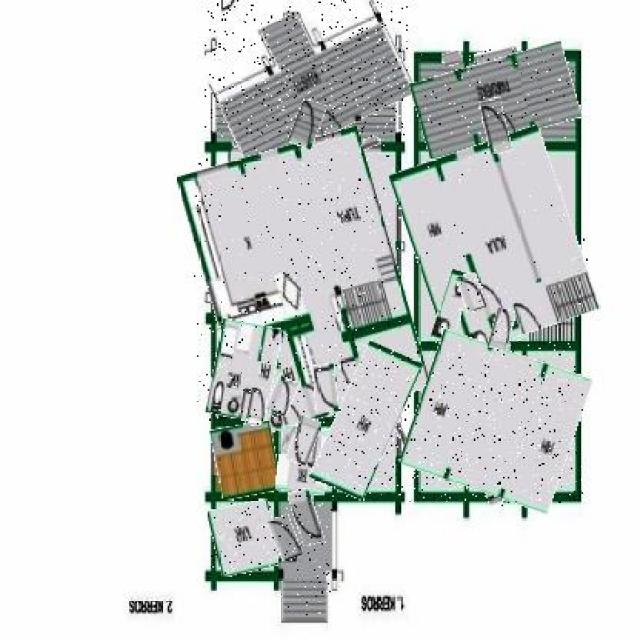door: (290, 489, 322, 545), (482, 97, 509, 154), (292, 101, 323, 148), (291, 417, 318, 466), (272, 515, 300, 560), (314, 365, 338, 412), (269, 378, 297, 416), (458, 274, 484, 312), (491, 309, 512, 349), (246, 389, 266, 426)
window: (388, 395, 409, 460), (476, 48, 518, 66), (232, 138, 262, 154), (349, 137, 378, 152), (443, 52, 462, 65), (532, 51, 551, 63), (488, 491, 503, 506)
zone: (194, 137, 415, 426), (403, 135, 588, 348), (204, 0, 407, 152), (408, 340, 583, 503), (414, 49, 577, 149), (324, 343, 410, 499), (210, 320, 278, 422), (278, 498, 334, 616), (212, 422, 278, 498), (211, 502, 278, 576), (277, 426, 332, 494), (437, 270, 468, 342)
